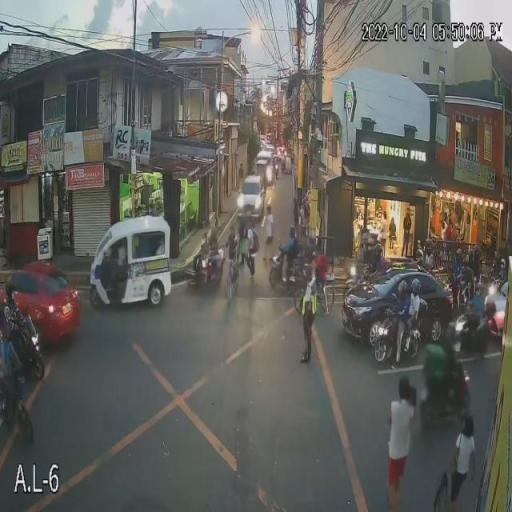helmet: (410, 278, 422, 292), (474, 281, 484, 292), (196, 239, 206, 248)
motorcycle: (417, 356, 471, 430), (369, 298, 424, 369), (0, 301, 44, 385), (452, 296, 498, 360), (267, 242, 312, 296), (188, 244, 226, 294)
rider: (386, 280, 412, 362), (0, 290, 26, 370), (422, 320, 450, 394), (403, 278, 427, 350), (464, 275, 492, 329), (446, 321, 468, 385), (195, 233, 221, 282), (275, 226, 300, 270), (484, 270, 506, 316), (450, 249, 468, 296), (309, 246, 330, 286)
